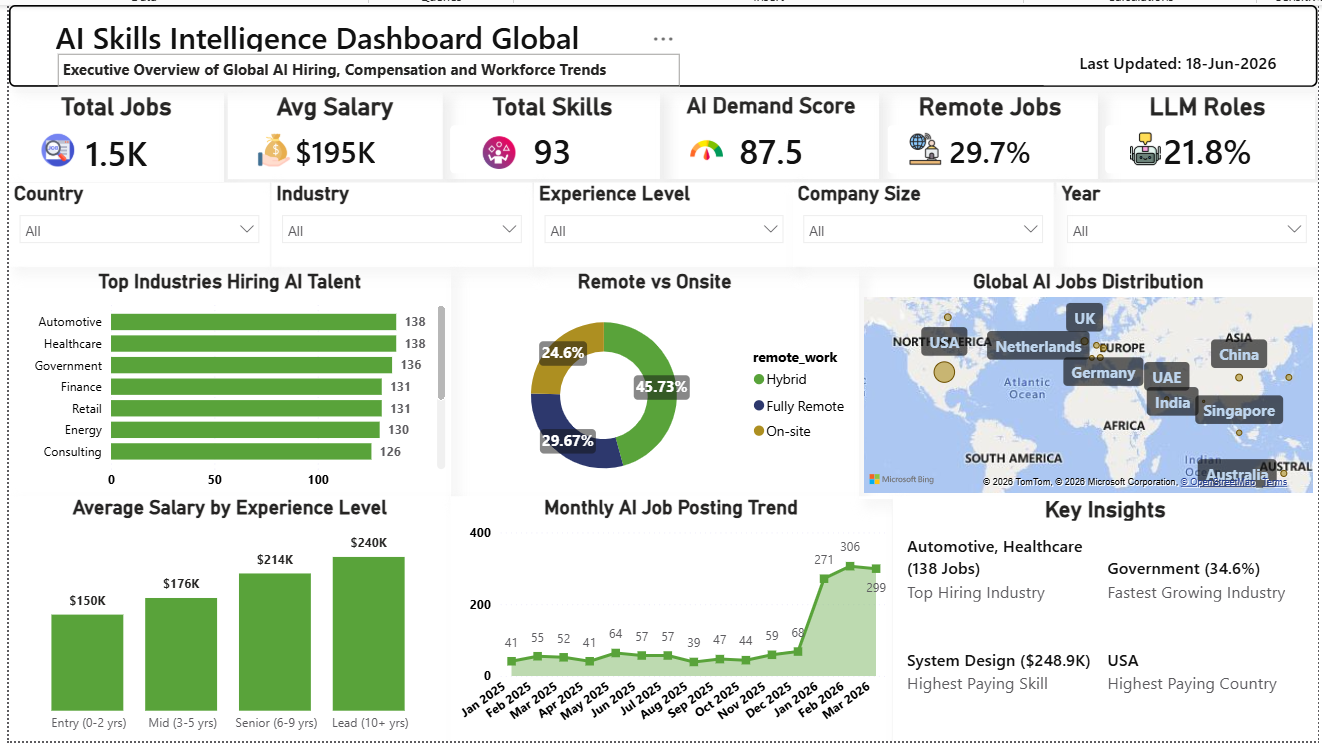

The dashboard page shown, as its layout file describes it:
{"tool":"powerbi","page":{"name":"Executive Overview","canvas":[1280,720],"ordinal":0},"visuals":[{"type":"cardVisual","title":"Total Jobs","fields":{"Data":["Measure_Table.Total Jobs"]},"box":[0,85,210,88],"z":0},{"type":"cardVisual","title":"Avg Salary","fields":{"Data":["Measure_Table.Avg Salary"]},"box":[213.6,85,210,85],"z":1000},{"type":"cardVisual","title":"AI Demand Score","fields":{"Data":["Measure_Table.Avg Demand Score"]},"box":[640.8,85,210,85],"z":2000},{"type":"cardVisual","title":"Total Skills","fields":{"Data":["Measure_Table.Total Skills"]},"box":[427.2,85,210,85],"z":3000},{"type":"cardVisual","title":"Remote Jobs","fields":{"Data":["Measure_Table.Remote Share %"]},"box":[855,85,210,85],"z":4000},{"type":"cardVisual","title":"LLM Roles","fields":{"Data":["Measure_Table.LLM Share %"]},"box":[1068,85,210,85],"z":5000},{"type":"slicer","title":"Country","fields":{"Values":["Dim_Country.Country"]},"box":[0,174,255,82],"z":6000},{"type":"slicer","title":"Industry","fields":{"Values":["Dim_Industry.Industry"]},"box":[257,174,255,82],"z":7000},{"type":"slicer","title":"Year","fields":{"Values":["Dim_Date.Year"]},"box":[1025,174,255,82],"z":8000},{"type":"slicer","title":"Experience Level","fields":{"Values":["Dim_Experience.Experience_Level"]},"box":[513,174,254,82],"z":9000},{"type":"slicer","title":"Company Size","fields":{"Values":["Dim_Company_Size.Company_Size"]},"box":[767,174,255,82],"z":10000},{"type":"clusteredBarChart","title":"Top Industries Hiring AI Talent","fields":{"Category":["Dim_Industry.Industry"],"Y":["Measure_Table.Total Jobs"]},"box":[0,259,432,224],"z":11000},{"type":"columnChart","title":"Average Salary by Experience Level","fields":{"Category":["fact_jobs.experience_level"],"Y":["Measure_Table.Avg Salary"]},"box":[0,480,432,240],"z":12000},{"type":"donutChart","title":"Remote vs Onsite","fields":{"Category":["fact_jobs.remote_work"],"Y":["Measure_Table.Total Jobs"]},"box":[432,259,400,224],"z":13000},{"type":"lineChart","title":"Monthly AI Job Posting Trend","fields":{"Category":["Dim_Date.YearMonth"],"Y":["Measure_Table.Total Jobs"]},"box":[432,480,432,240],"z":14000},{"type":"map","title":"Global AI Jobs Distribution","fields":{"Category":["fact_jobs.country"],"Size":["Measure_Table.Total Jobs"]},"box":[831,259,449,224],"z":15000},{"type":"image","box":[32,126,32,32],"z":16000},{"type":"image","box":[243.6,126,32,32],"z":17000},{"type":"image","box":[464,128,32,32],"z":18000},{"type":"image","box":[880,125,32,32],"z":19000},{"type":"image","box":[1096,125,32,32],"z":20000},{"type":"image","box":[666.8,126,32,32],"z":21000},{"type":"cardVisual","fields":{"Data":["Measure_Table.Dashboard Title"]},"box":[0,0,1280,80],"z":22000},{"type":"cardVisual","fields":{"Data":["Measure_Table.Last Refresh"]},"box":[1008,30,272,48],"z":23000},{"type":"textbox","box":[48,48,608,32],"z":24000},{"type":"cardVisual","title":"Key Insights","fields":{"Data":["Measure_Table.Top Hiring Industries","Measure_Table.Fastest Growing Industry","Measure_Table.Highest Paying Skill","Measure_Table.Highest Paying Country"]},"box":[864,480,416,240],"z":25000}]}

Visuals, with their boxes in screenshot pixels (x1, y1, x2, y2), scaled from the page's 1280x720 canvas onto the 1322x746 screenshot:
"Total Jobs" cardVisual: pyautogui.locateOnScreen(0, 88, 217, 179)
"Avg Salary" cardVisual: pyautogui.locateOnScreen(221, 88, 437, 176)
"AI Demand Score" cardVisual: pyautogui.locateOnScreen(662, 88, 879, 176)
"Total Skills" cardVisual: pyautogui.locateOnScreen(441, 88, 658, 176)
"Remote Jobs" cardVisual: pyautogui.locateOnScreen(883, 88, 1100, 176)
"LLM Roles" cardVisual: pyautogui.locateOnScreen(1103, 88, 1320, 176)
"Country" slicer: pyautogui.locateOnScreen(0, 180, 263, 265)
"Industry" slicer: pyautogui.locateOnScreen(265, 180, 529, 265)
"Year" slicer: pyautogui.locateOnScreen(1059, 180, 1321, 265)
"Experience Level" slicer: pyautogui.locateOnScreen(530, 180, 792, 265)
"Company Size" slicer: pyautogui.locateOnScreen(792, 180, 1056, 265)
"Top Industries Hiring AI Talent" clusteredBarChart: pyautogui.locateOnScreen(0, 268, 446, 500)
"Average Salary by Experience Level" columnChart: pyautogui.locateOnScreen(0, 497, 446, 745)
"Remote vs Onsite" donutChart: pyautogui.locateOnScreen(446, 268, 859, 500)
"Monthly AI Job Posting Trend" lineChart: pyautogui.locateOnScreen(446, 497, 892, 745)
"Global AI Jobs Distribution" map: pyautogui.locateOnScreen(858, 268, 1321, 500)
image: pyautogui.locateOnScreen(33, 131, 66, 164)
image: pyautogui.locateOnScreen(252, 131, 285, 164)
image: pyautogui.locateOnScreen(479, 133, 512, 166)
image: pyautogui.locateOnScreen(909, 130, 942, 163)
image: pyautogui.locateOnScreen(1132, 130, 1165, 163)
image: pyautogui.locateOnScreen(689, 131, 722, 164)
cardVisual - Measure_Table.Dashboard Title: pyautogui.locateOnScreen(0, 0, 1321, 83)
cardVisual - Measure_Table.Last Refresh: pyautogui.locateOnScreen(1041, 31, 1321, 81)
textbox: pyautogui.locateOnScreen(50, 50, 678, 83)
"Key Insights" cardVisual: pyautogui.locateOnScreen(892, 497, 1321, 745)
